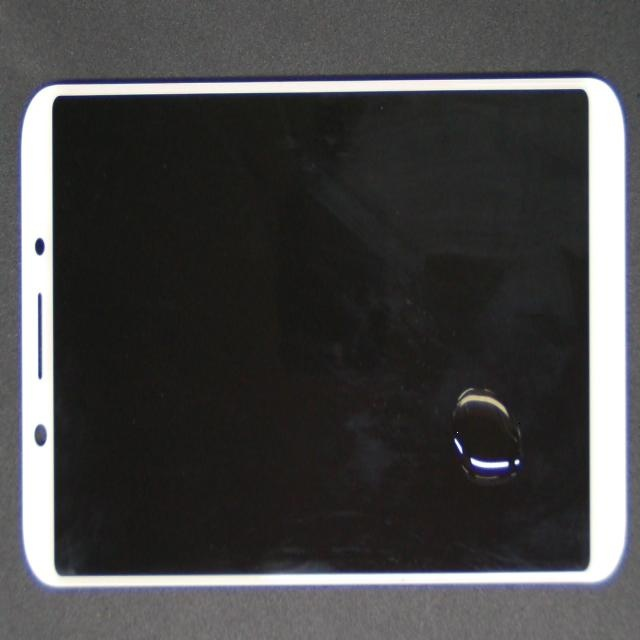oil: (261, 181, 640, 582)
